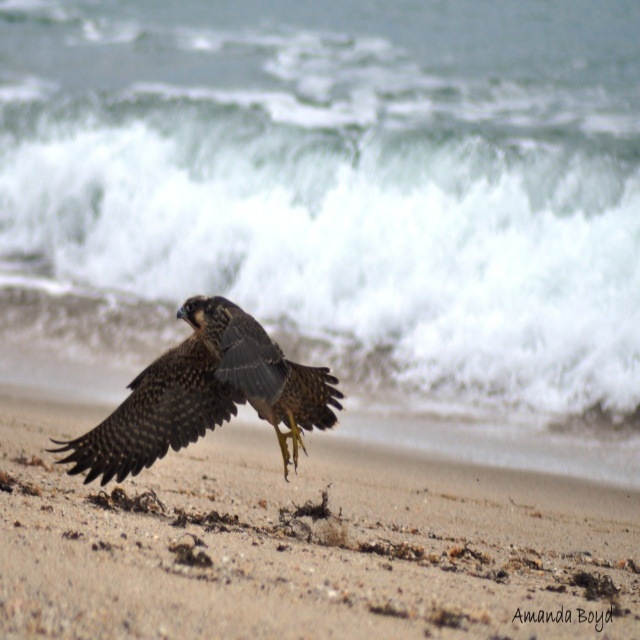Eagle: (42, 293, 353, 485)
